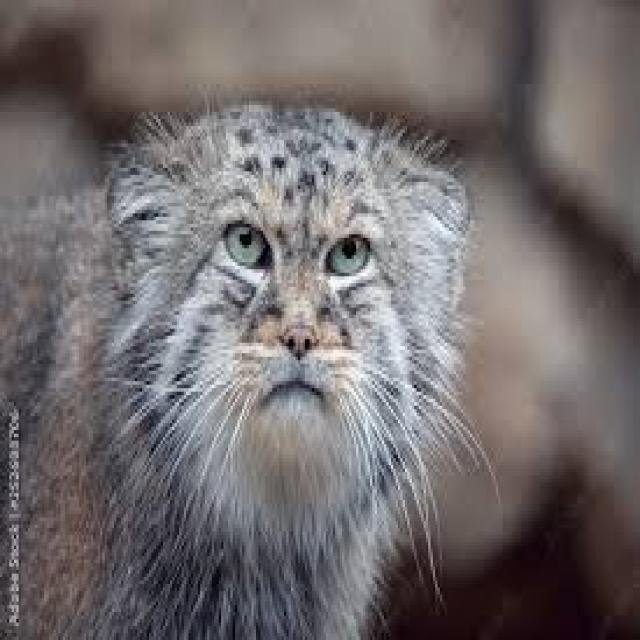Cat: (0, 87, 482, 640)
